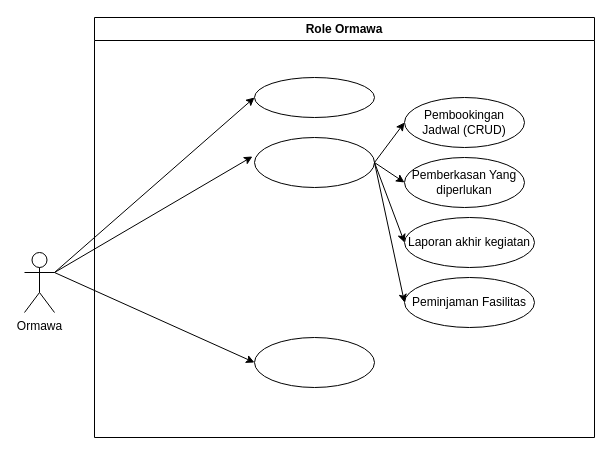
The diagram is 612 pixels wide and 455 high, and some of its shapes have lost their labels. Each missing label, with the box of its shape:
Laporan / Dokumen: (254, 336, 374, 388)
Login: (254, 76, 374, 118)
Penjadwalan: (254, 136, 374, 188)
